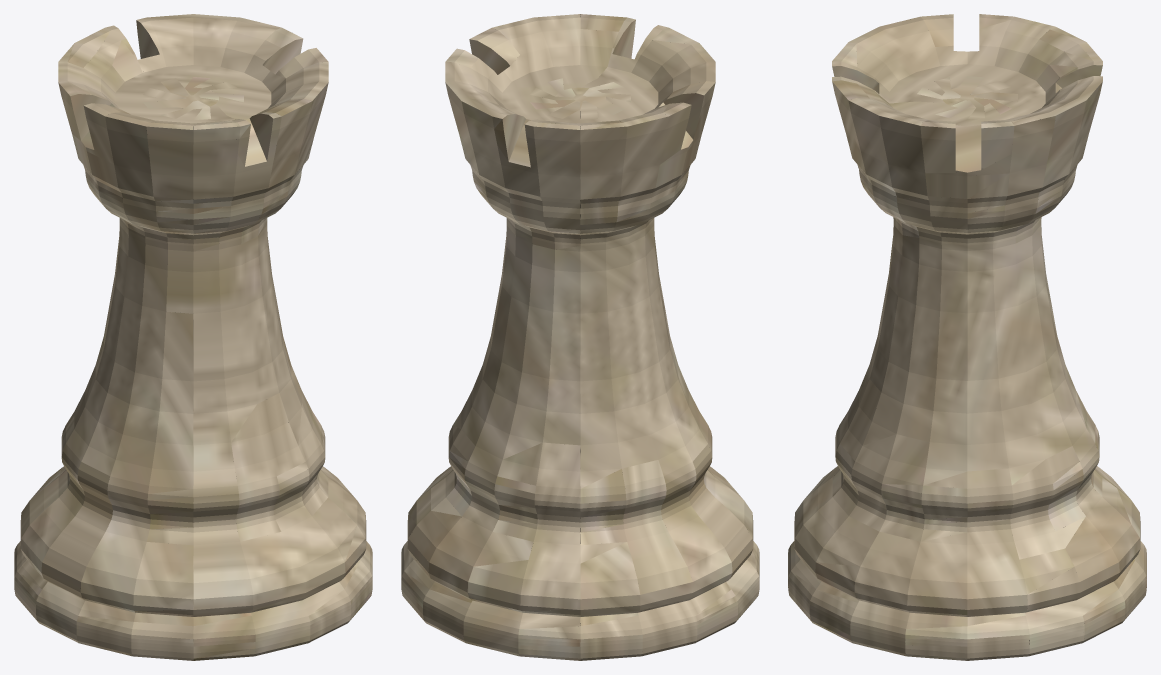
File: rook_1.obj
3 views of the same model, side by side, from view 1: azimuth 30°, elevation 25°; view 2: azimuth 150°, elevation 25°; view 3: azimuth 270°, elevation 25° (orthographic).
Parts seen in each view (by area): view 1: TORRE3; view 2: TORRE3; view 3: TORRE3.
Boxes of the visible parts, x1,y1,x2,y2 form: TORRE3: (14,14,372,660); TORRE3: (401,14,759,660); TORRE3: (788,14,1146,660).
Bounding box in the file's own units: 82.95 × 130 × 81.69.
Materials: 1 (1 with a texture image).
